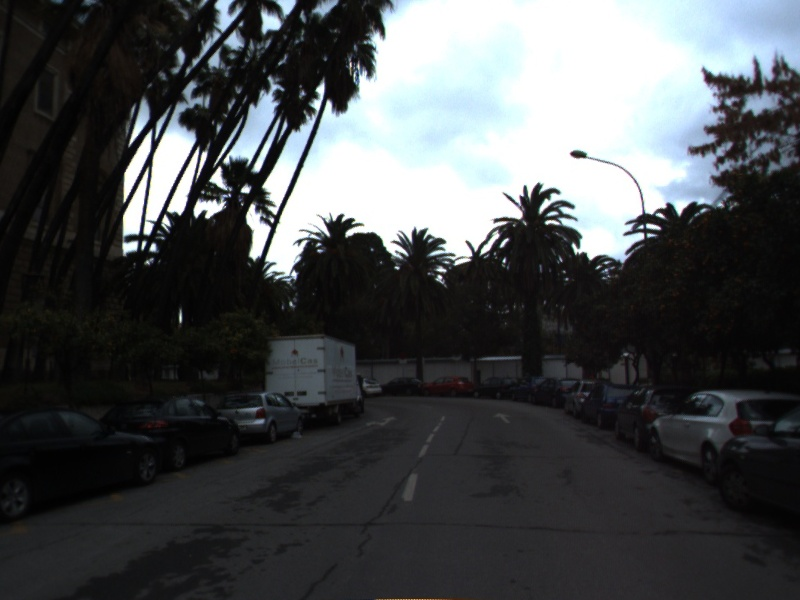STRAIGHT: (491, 410, 513, 425)
STRAIGHT_LEFT: (363, 414, 400, 428)
